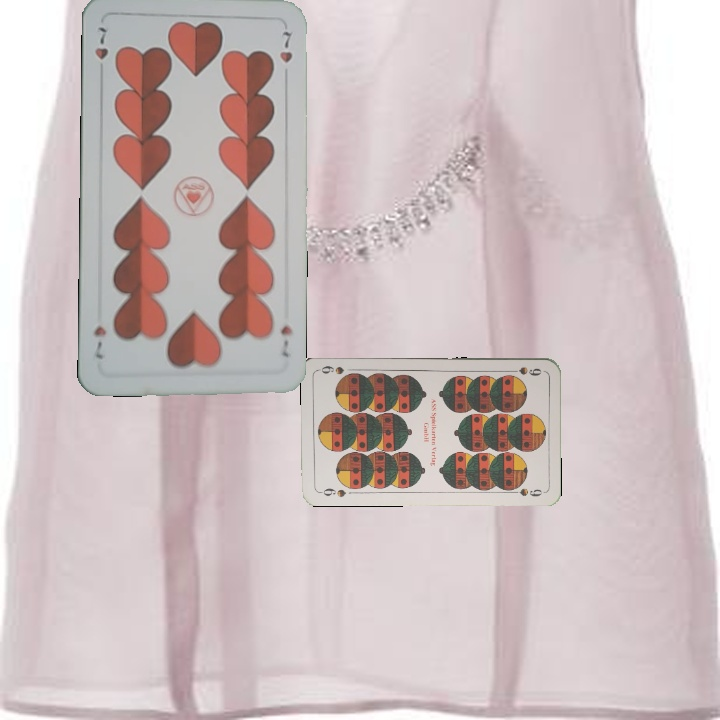H7: (90, 23, 110, 62), (277, 322, 295, 360)
S9: (504, 363, 544, 378), (316, 484, 348, 499)
